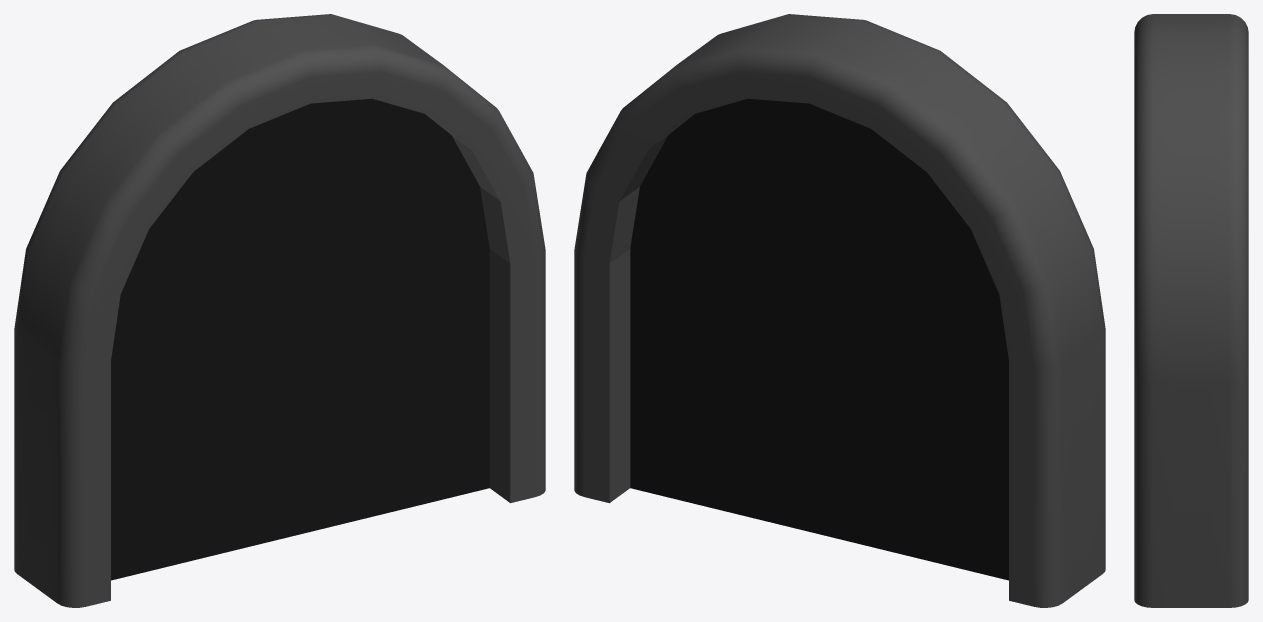
File: TexturedRatHoleReal.fbx
3 views of the same model, side by side, from view 1: azimuth 30°, elevation 25°; view 2: azimuth 150°, elevation 25°; view 3: azimuth 270°, elevation 25° (orthographic). The views are drawn at different scales.
Visible parts, largest first — view 1: pCylinder1; view 2: pCylinder1; view 3: pCylinder1.
Boxes of the visible parts, x1=… form: pCylinder1: x1=14, y1=14, x2=545, y2=607; pCylinder1: x1=574, y1=14, x2=1105, y2=607; pCylinder1: x1=1134, y1=14, x2=1248, y2=607.
Size of the model in its own units: 8.73 by 8.48 by 1.91.
Materials: 2 (2 with a texture image).
